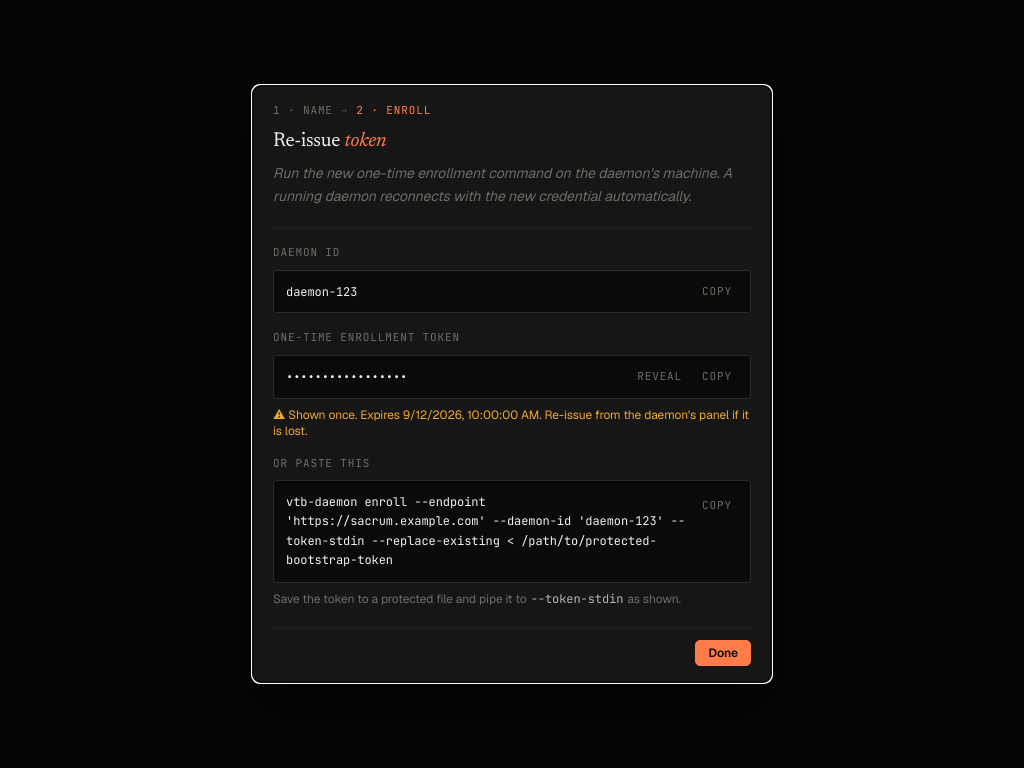
DaemonEnrollmentModal › reveals the enrollment token and exposes its copy action
Expected: the text "vtb-daemon enroll" is shown, [286,494,685,568]
Click the button "Reveal": (660, 377) [631,364,688,390]
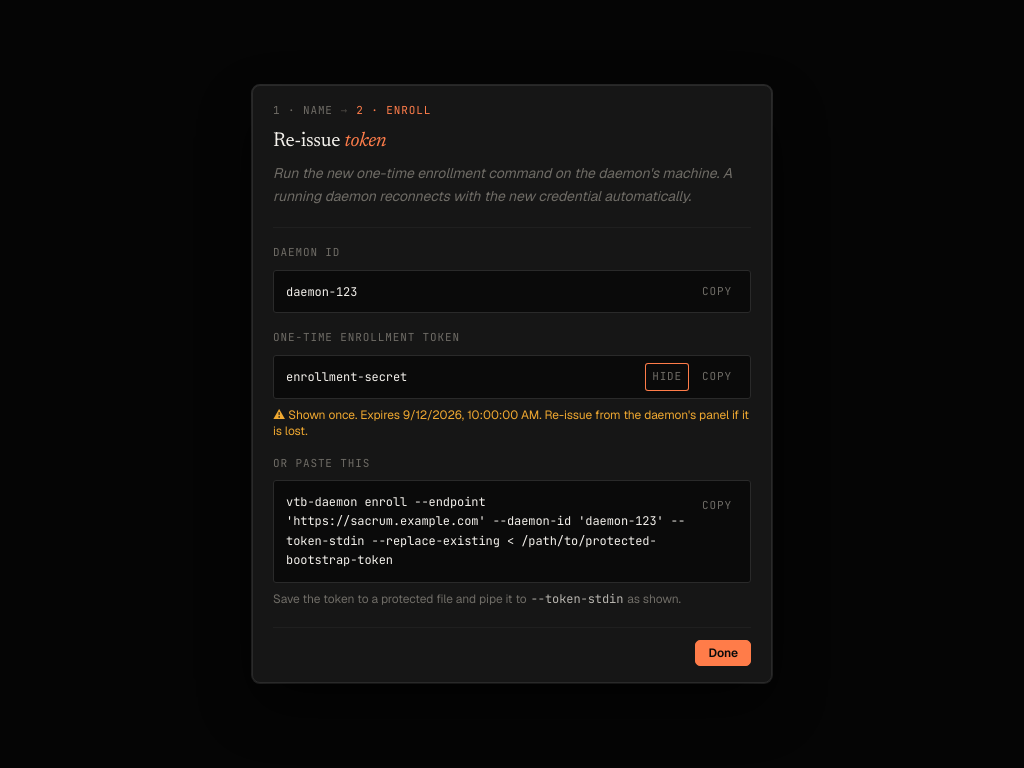
Expected: the button "Copy" in the row of "enrollment-secret" is shown, [696,364,738,390]
Expected: the text named "Enrollment token" reads "enrollment-secret", [286,369,407,385]
